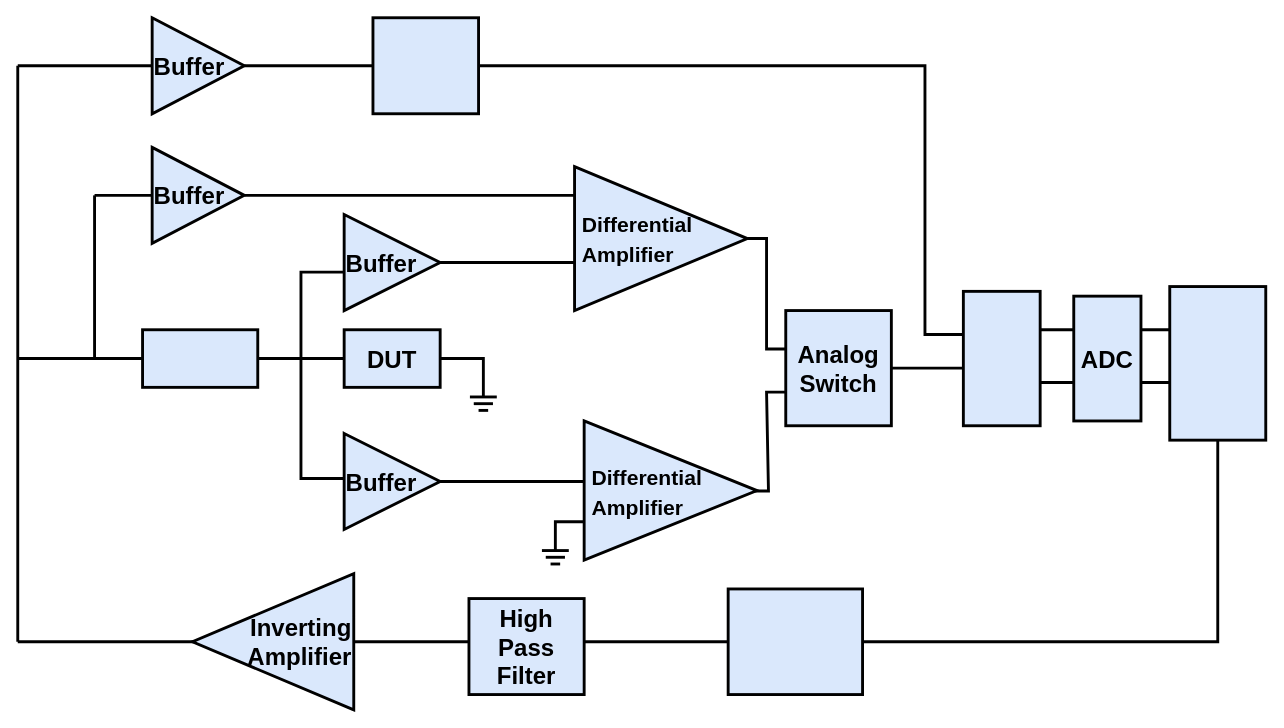
Some shapes in this 1284 by 728 pixel diagram are drawn without their labels. Each missing label, with the centre of its shape:
AD 8302: point (1001, 358)
All Pass Filter: point (425, 65)
DDS Sine Generator: point (795, 641)
ESP32: point (1217, 363)
R shunt: point (200, 358)
